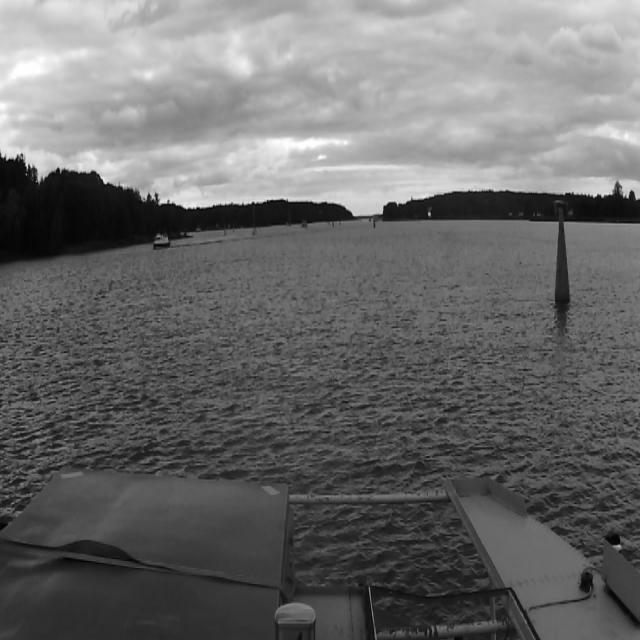buoy: (552, 207, 570, 301), (372, 215, 375, 227)
ship: (154, 233, 170, 250), (252, 203, 256, 234)
